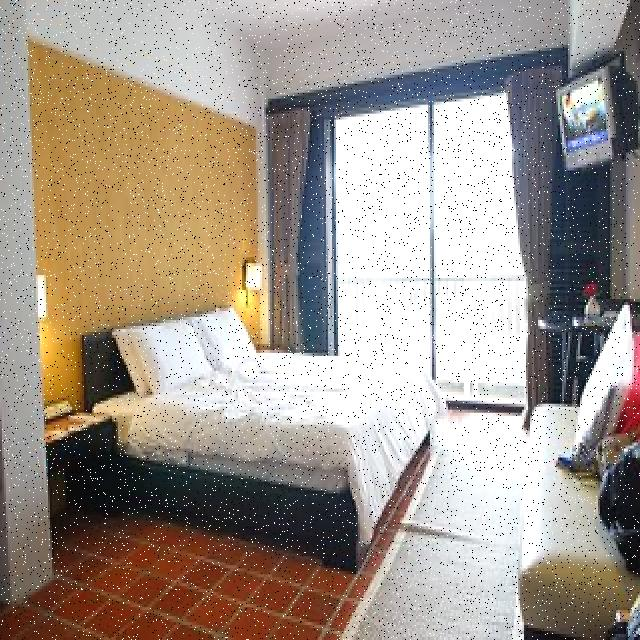bed: (79, 308, 419, 544)
